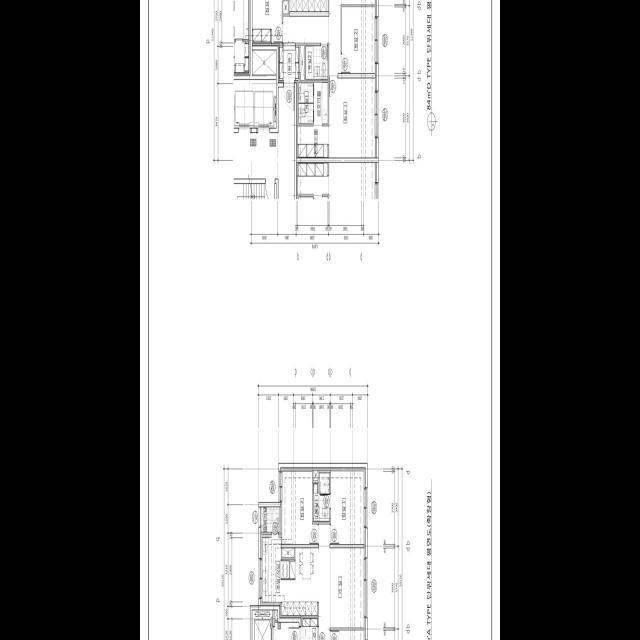background: (140, 0, 500, 640)
space_bedroom: (329, 78, 376, 157), (281, 467, 318, 544), (331, 467, 365, 544), (342, 6, 376, 73), (252, 0, 282, 45)
space_dressroom: (297, 126, 329, 157), (314, 82, 328, 126)
space_elevator: (254, 79, 276, 127), (234, 79, 254, 127), (252, 609, 273, 640)
space_elevator_hall: (234, 86, 294, 199), (273, 622, 299, 640)
space_front: (278, 45, 299, 82), (301, 617, 318, 640)
space_kitchen: (261, 534, 319, 617)
space_living_room: (283, 0, 376, 75), (319, 524, 365, 640)
space_other: (252, 50, 276, 74), (282, 547, 294, 557), (283, 0, 288, 13), (313, 467, 318, 480), (275, 610, 278, 620)
space_outdoor_room: (261, 506, 279, 531)
space_staircase: (234, 183, 276, 198), (300, 45, 304, 80)
space_toilet: (313, 472, 330, 521), (305, 45, 328, 80), (299, 82, 313, 102), (299, 103, 313, 123)
